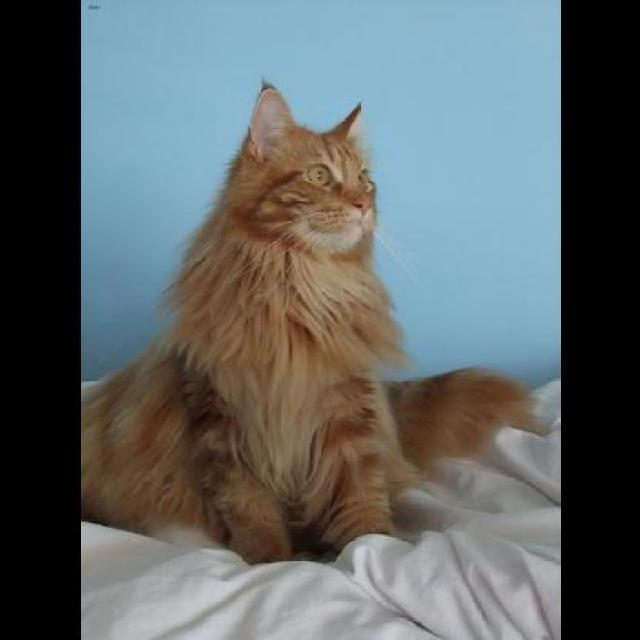unauthorized: (79, 76, 552, 564)
